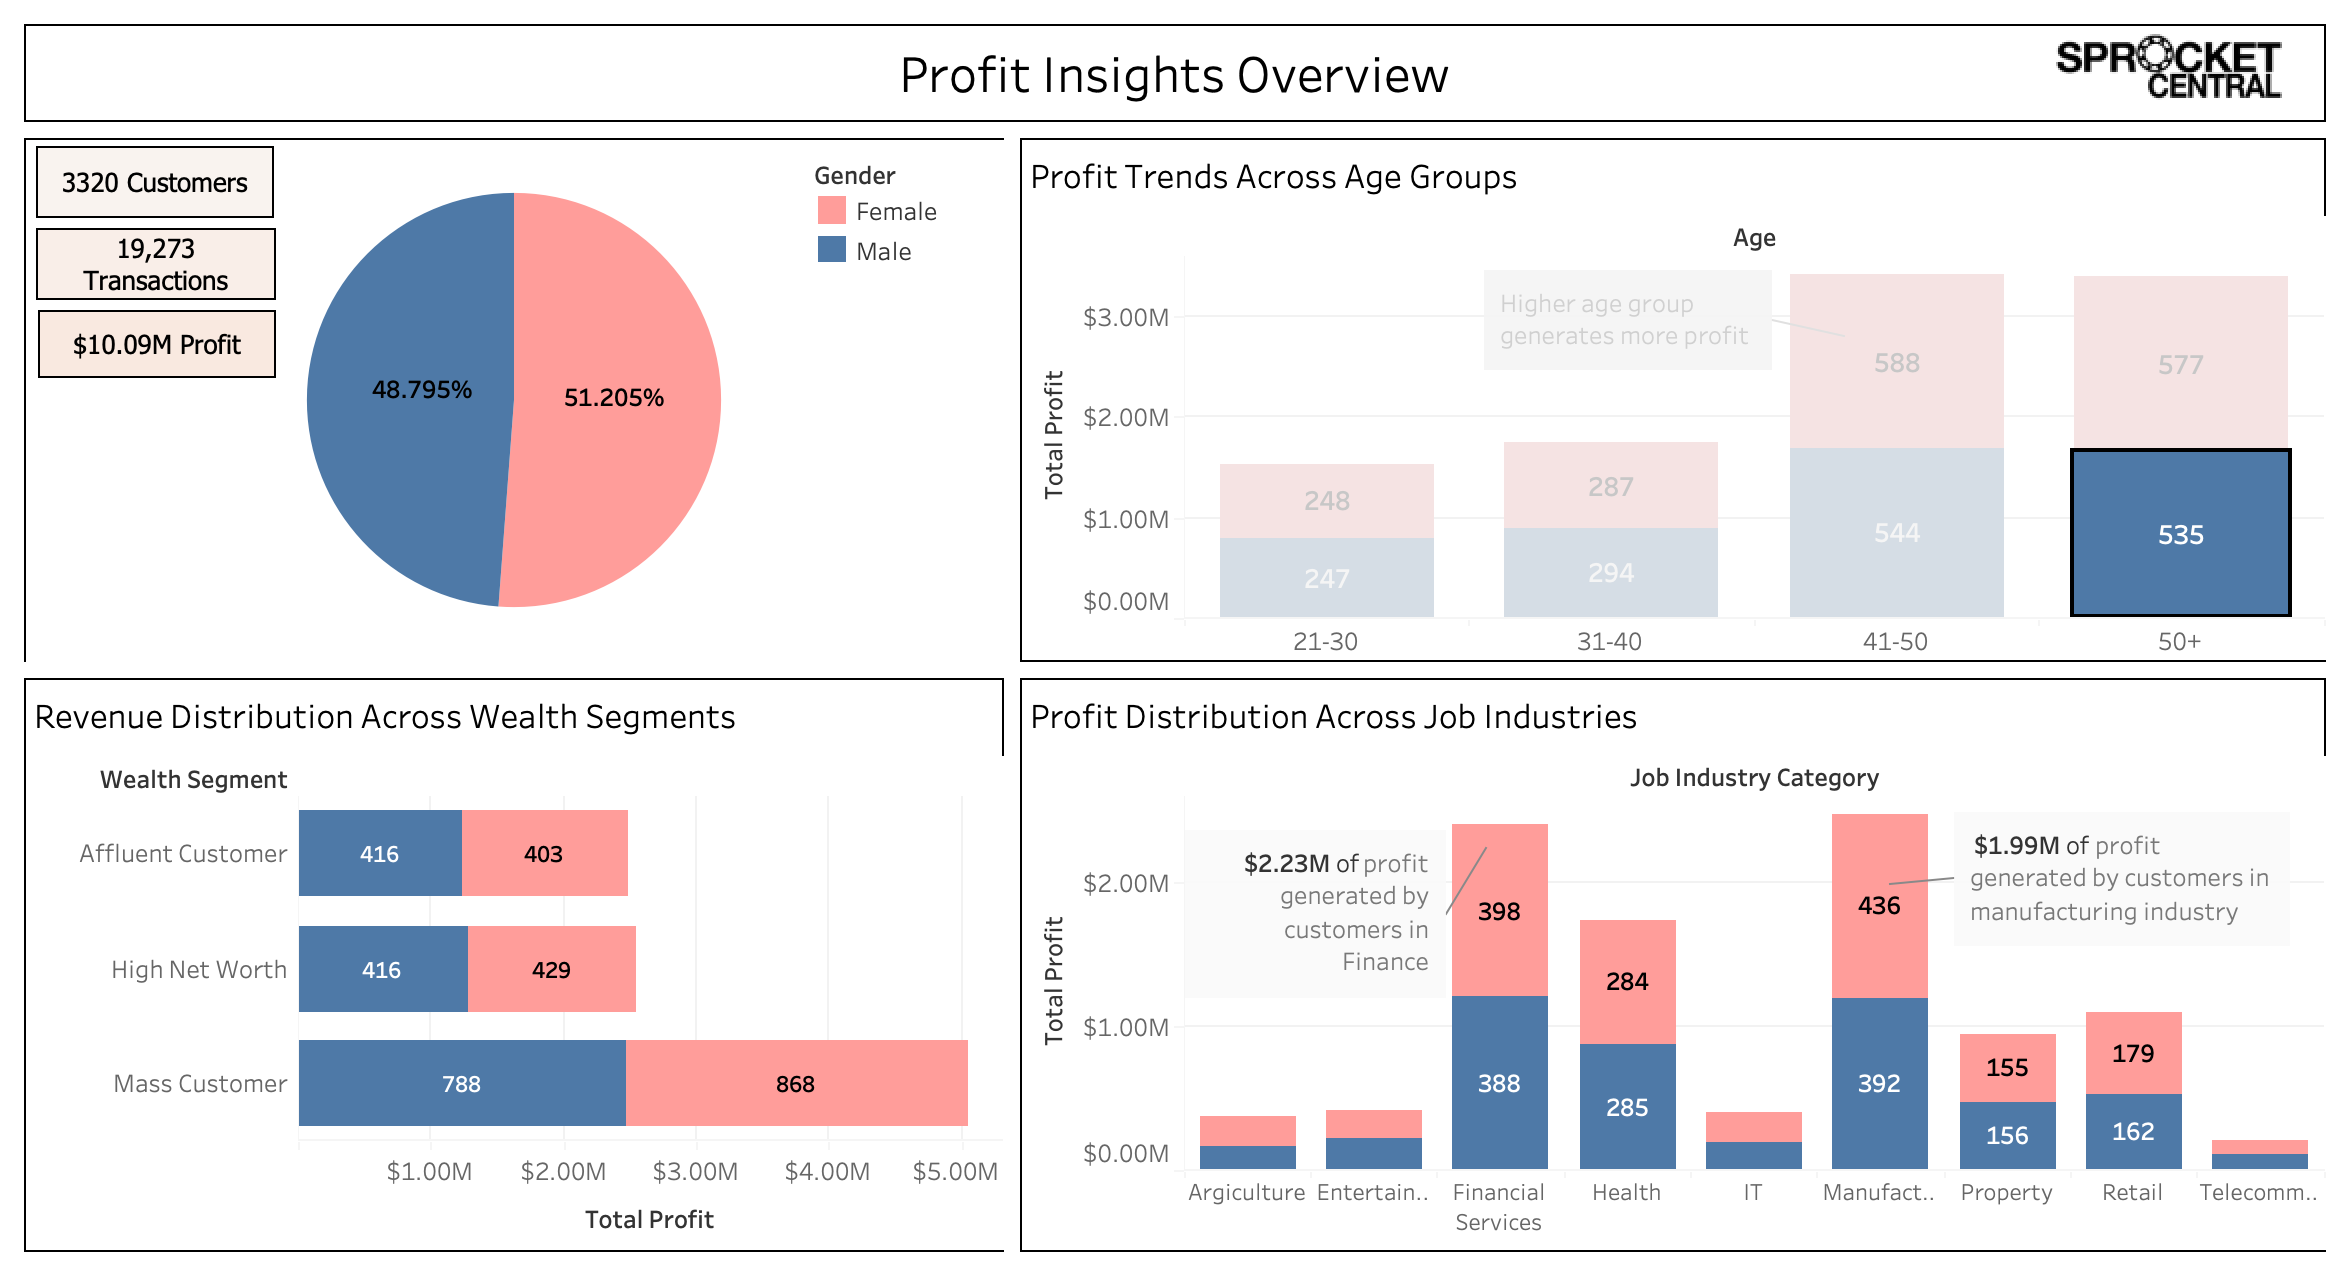

Layout of this report page (visuals, bound fields, positions):
{"tool":"tableau","page":{"name":"Profit Insights Overview","canvas":[1000,1000],"units":"permille","ordinal":0},"visuals":[{"type":"title","box":[6.8,12.5,986.4,89.3]},{"type":"image","param":"/Users/beast/Downloads/kpmg/sprocket.png","box":[874.9,26.7,110.6,62.7]},{"type":"worksheet","title":"Gender_stats","mark":"Pie","box":[6.8,101.9,424.1,423.4]},{"type":"worksheet","title":"age_group_profit","mark":"Automatic","rows":["total_profit"],"box":[430.9,101.9,562.3,423.4]},{"type":"text","box":[15.3,114.4,101.3,56.4]},{"type":"legend","title":"Gender_stats","param":"[federated.19hgvm91lh1i801514r3v0bk74zg].[none:gender:nk]","box":[345.5,120.7,75.7,84.6]},{"type":"text","box":[15.3,178.7,102.1,56.4]},{"type":"text","box":[15.8,242.8,101.3,53.5]},{"type":"worksheet","title":"wealth_segment_expenditure","mark":"Automatic","rows":["wealth_segment"],"cols":["total_profit"],"box":[6.8,525.3,424.1,462.2]},{"type":"worksheet","title":"job_industry_profit","mark":"Automatic","rows":["total_profit"],"cols":["job_industry_category"],"box":[430.9,525.3,562.3,462.2]}]}

Visuals, with their boxes on the dashboard's canvas, which has no fixed pixel size, in thousandths of its width and height (x1, y1, x2, y2). These are canvas units, not pixel positions in the 2350x1276 screenshot, which may show the page scaled, cropped or inside an application window:
title: (x1=7, y1=12, x2=993, y2=102)
image: (x1=875, y1=27, x2=986, y2=89)
"Gender_stats" worksheet (Pie marks): (x1=7, y1=102, x2=431, y2=525)
"age_group_profit" worksheet: (x1=431, y1=102, x2=993, y2=525)
text: (x1=15, y1=114, x2=117, y2=171)
"Gender_stats" legend: (x1=346, y1=121, x2=421, y2=205)
text: (x1=15, y1=179, x2=117, y2=235)
text: (x1=16, y1=243, x2=117, y2=296)
"wealth_segment_expenditure" worksheet: (x1=7, y1=525, x2=431, y2=988)
"job_industry_profit" worksheet: (x1=431, y1=525, x2=993, y2=988)
